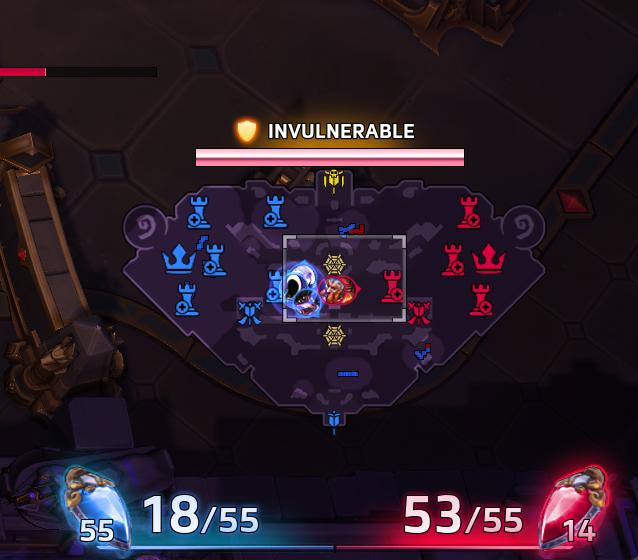blue nexus: (161, 240, 198, 274)
blue player: (282, 260, 318, 302)
blue tower: (200, 241, 228, 277), (185, 194, 211, 230), (262, 192, 287, 229), (174, 281, 200, 316), (264, 265, 284, 303)
red nexus: (471, 242, 506, 274)
red player: (336, 272, 362, 307), (320, 274, 345, 309)
red tower: (379, 269, 404, 303), (468, 282, 493, 316), (456, 194, 480, 229), (440, 242, 464, 276)
